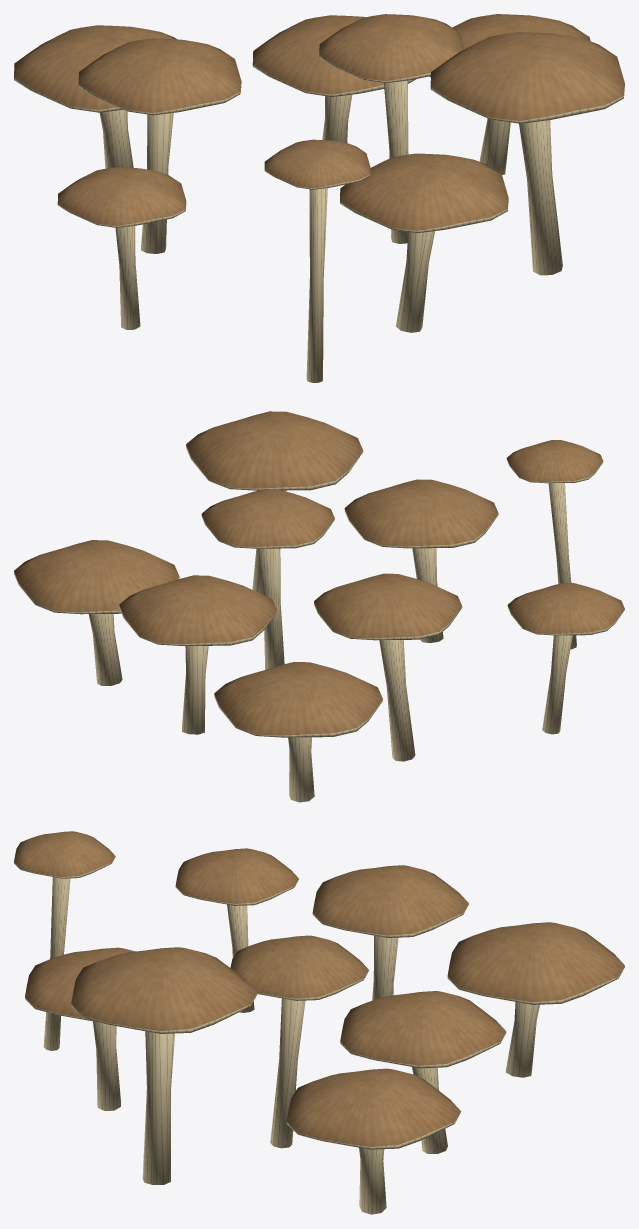
The model's file is Deadwood_Mushroom_Cluster_01_LOD1.fbx.
3 views of the same model, one above another, from view 1: azimuth 30°, elevation 25°; view 2: azimuth 150°, elevation 25°; view 3: azimuth 270°, elevation 25° (orthographic). The views are drawn at different scales.
Visible parts, largest first — view 1: Deadwood_Mushroom_Cluster_01_LOD1_Mesh; view 2: Deadwood_Mushroom_Cluster_01_LOD1_Mesh; view 3: Deadwood_Mushroom_Cluster_01_LOD1_Mesh.
Boxes of the visible parts, <box> form: Deadwood_Mushroom_Cluster_01_LOD1_Mesh: <box>14,14,624,382</box>; Deadwood_Mushroom_Cluster_01_LOD1_Mesh: <box>14,411,624,802</box>; Deadwood_Mushroom_Cluster_01_LOD1_Mesh: <box>14,831,624,1214</box>.
Bounding box in the file's own units: 30.07 × 11.08 × 28.43.
Materials: 2 (2 with a texture image).
